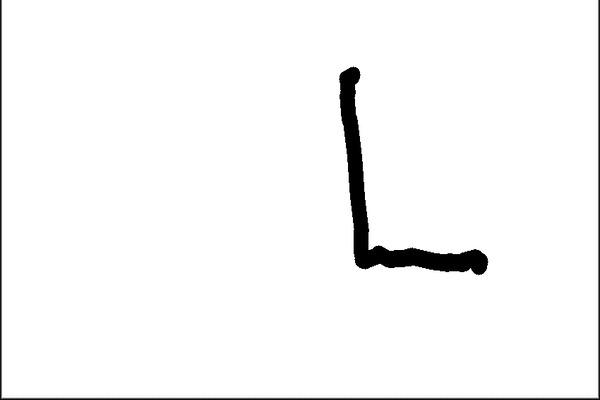L: (330, 59, 494, 283)
